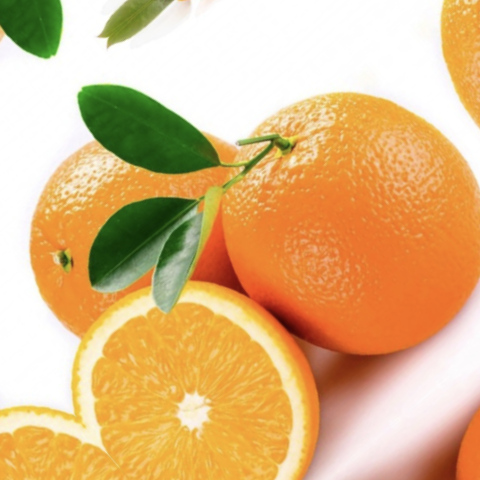orange: (136, 8, 480, 432), (0, 49, 353, 426)
